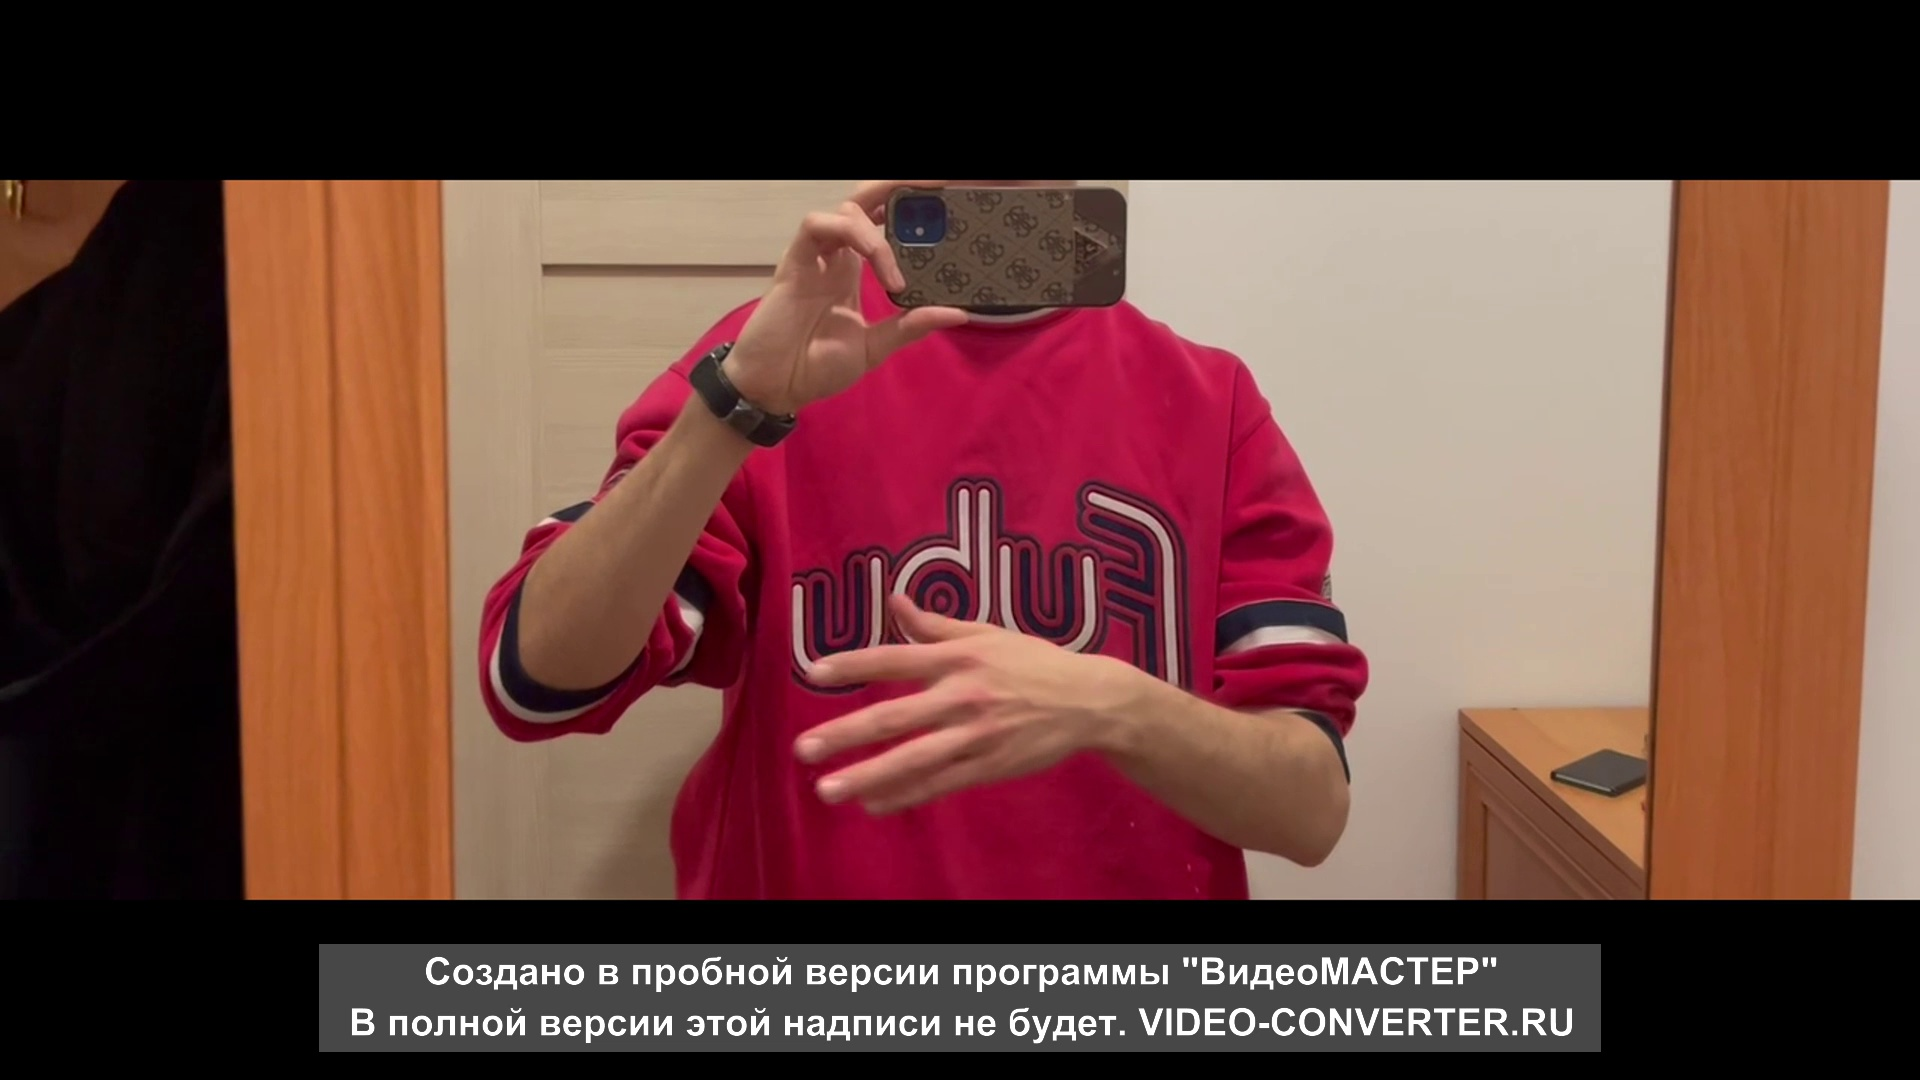Кисть: (794, 592, 1100, 816)
